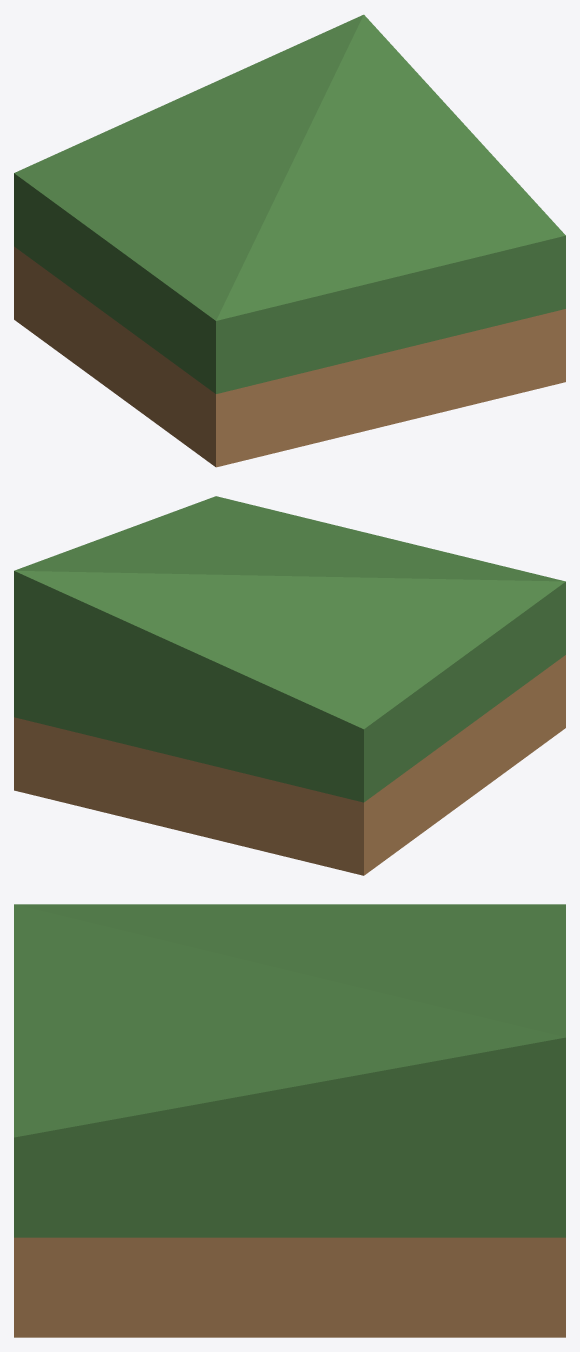
File: tile_114.fbx
3 renders of one model, top to bottom at view 1: azimuth 30°, elevation 25°; view 2: azimuth 150°, elevation 25°; view 3: azimuth 270°, elevation 25°, orthographic. The views are drawn at different scales.
Visible parts, largest first — view 1: tile_114; view 2: tile_114; view 3: tile_114.
Boxes of the visible parts, x1,y1,x2,y2 form: tile_114: (14, 14, 565, 467); tile_114: (14, 496, 565, 875); tile_114: (14, 904, 565, 1337).
Bounding box in the file's own units: 10 × 6 × 10.
